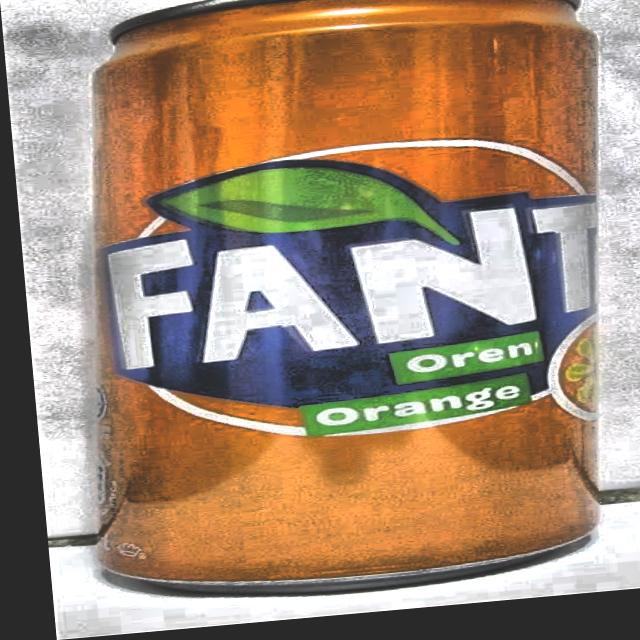Cans: (20, 0, 640, 620)
